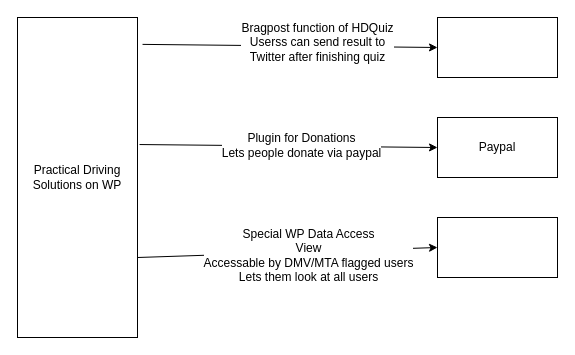
This 575x355 diagram has some shape labels left out. Here are the shapes that lost their labels. From the top down, the box of each, then its label:
(436, 16, 558, 78): Twitter
(436, 216, 558, 278): DMV/MTA
